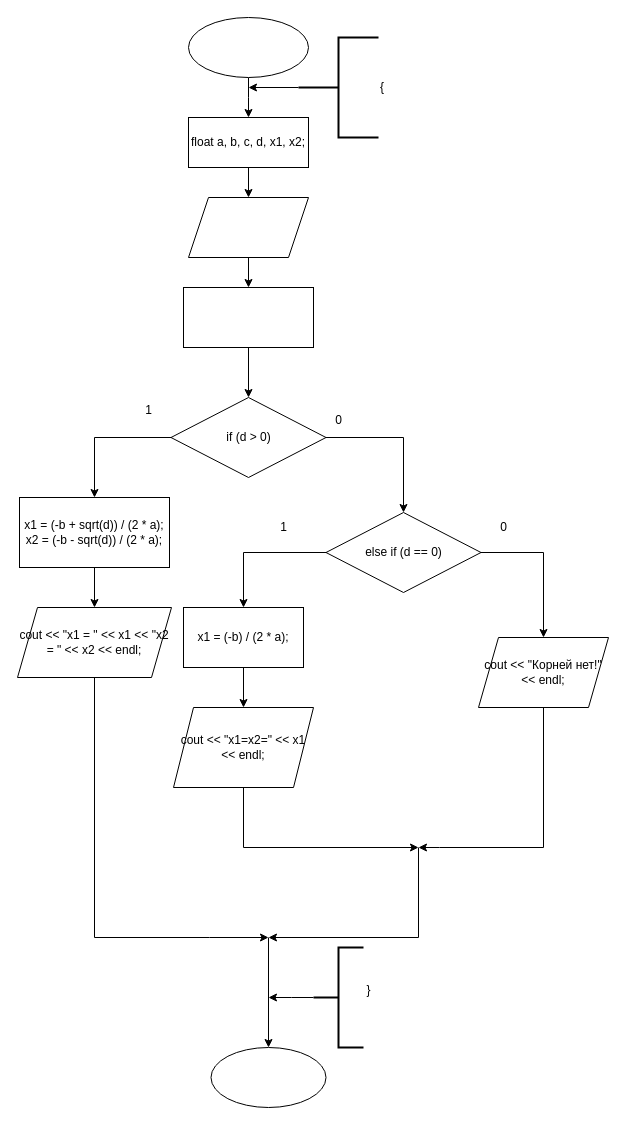
This 626x1125 diagram has some shape labels left out. The shapes that lost their labels are listed below. From the top down, each one's box as (x1, y1, x2, y2) in pixels, then its label:
(188, 16, 308, 78): Начало
(188, 196, 308, 258): cin >> a >> b >> c;
(182, 286, 314, 348): d = pow(b, 2) - 4 * a * c;
(210, 1046, 326, 1108): Конец
